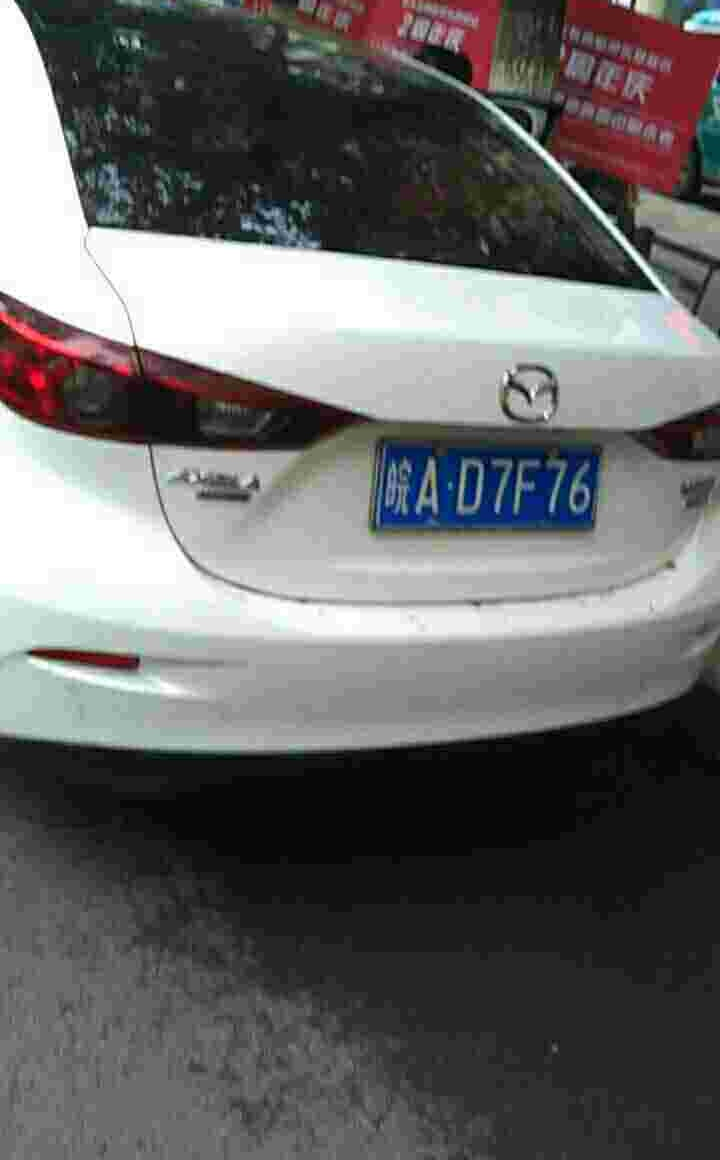license_plate: (377, 437, 594, 537)
